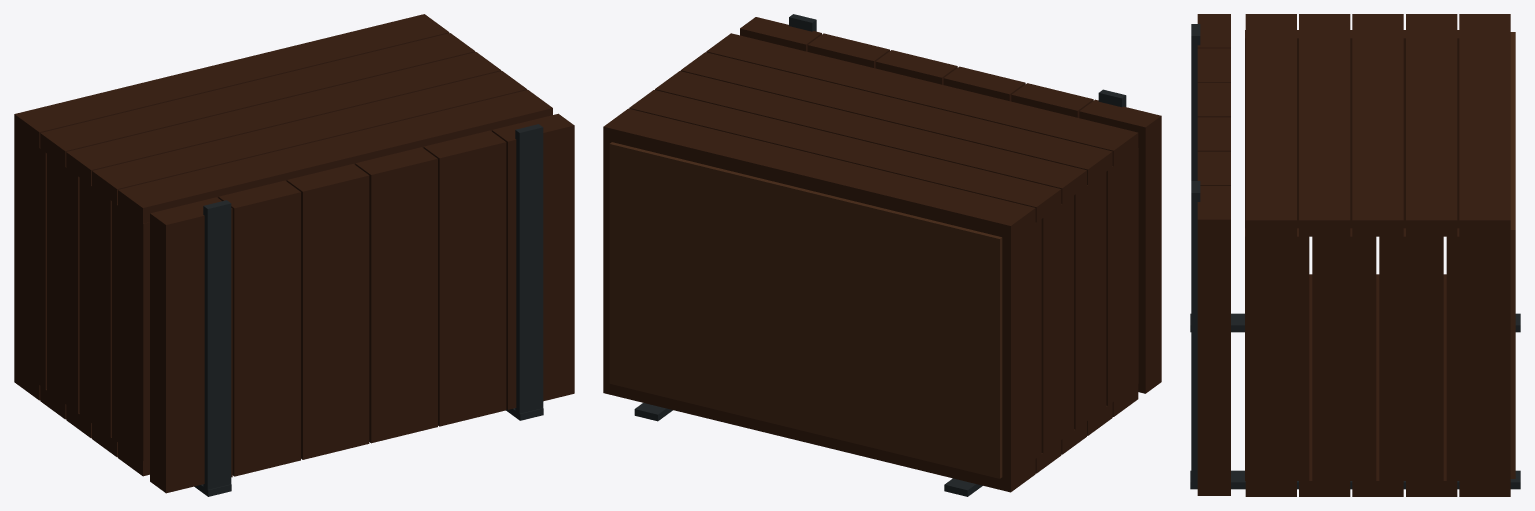
File: Chest_LOD1.obj
The picture shows the model from 3 angles, left to right: view 1: azimuth 30°, elevation 25°; view 2: azimuth 150°, elevation 25°; view 3: azimuth 270°, elevation 25°; orthographic projection. The views are drawn at different scales.
Bounding box in the file's own units: 0.96 × 0.666 × 0.65.
